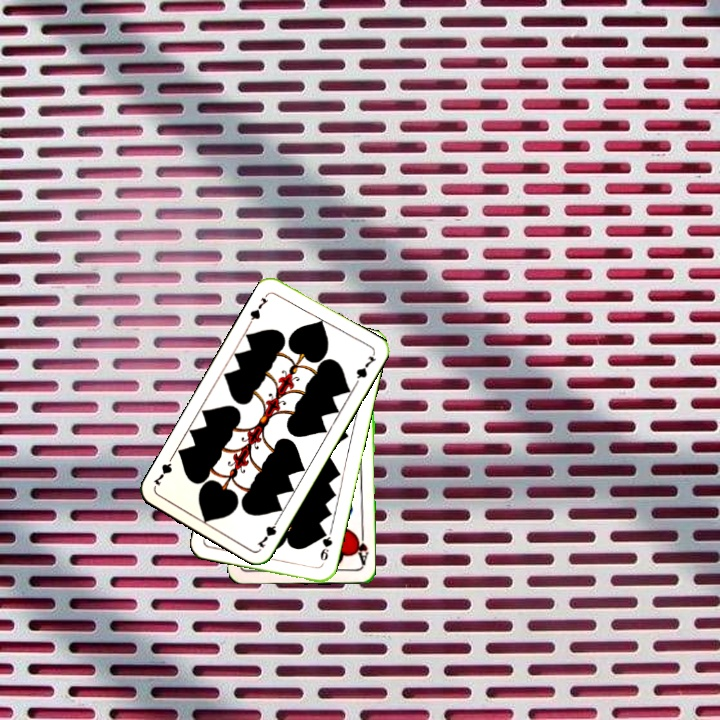G7: (253, 514, 282, 551), (245, 289, 271, 326)
G9: (316, 527, 335, 569)
HA: (351, 527, 371, 568)
